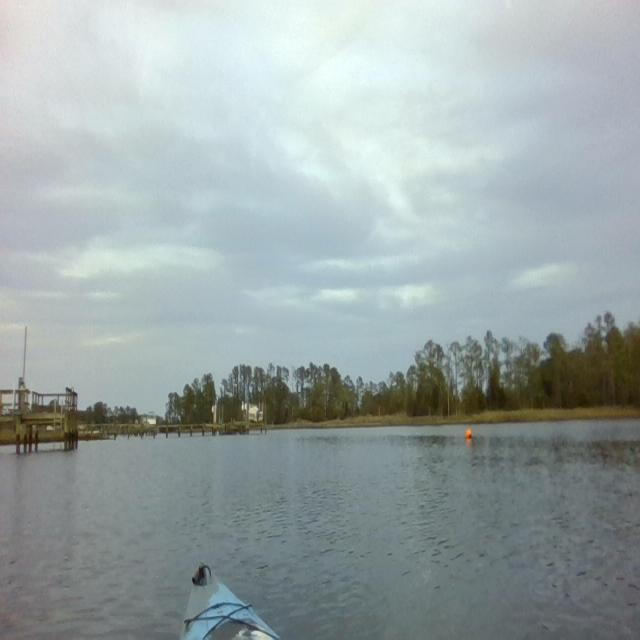Buoy: (464, 426, 474, 441)
